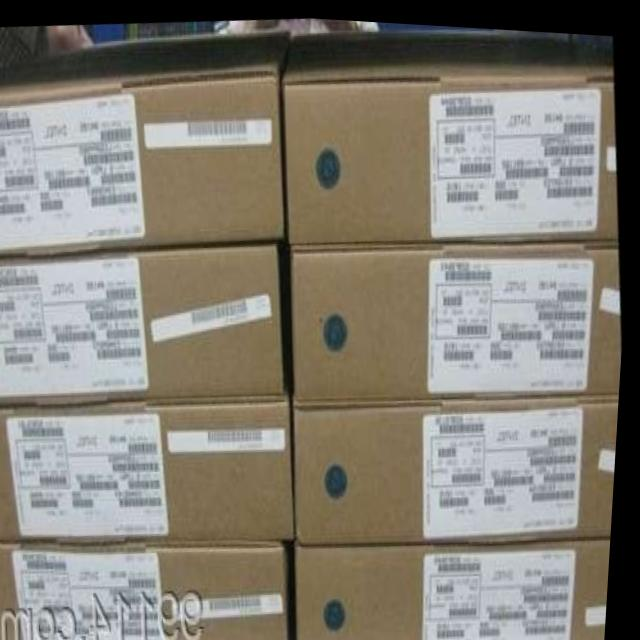box: (282, 25, 621, 239), (0, 29, 292, 256), (294, 241, 625, 403), (297, 391, 623, 536), (0, 242, 288, 403), (0, 389, 301, 541), (302, 528, 617, 640), (0, 539, 299, 640)
